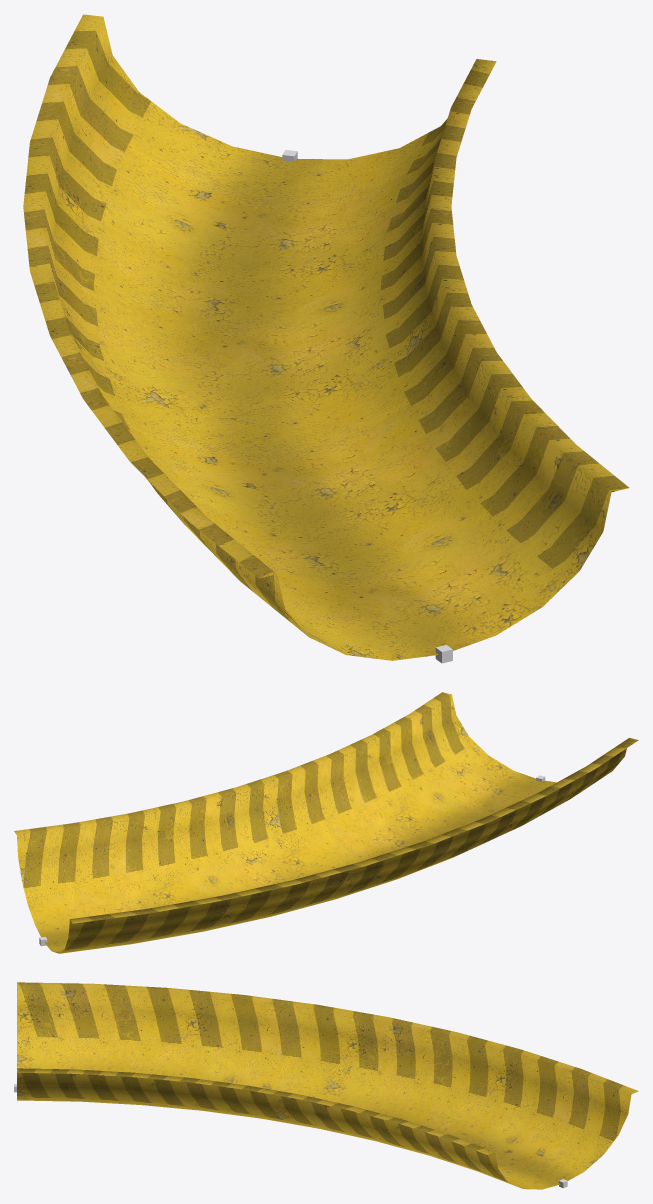
The model's file is roadBend45.R.fbx.
The picture shows the model from 3 angles, top to bottom: view 1: azimuth 30°, elevation 25°; view 2: azimuth 150°, elevation 25°; view 3: azimuth 270°, elevation 25°; orthographic projection. The views are drawn at different scales.
Parts seen in each view (by area): view 1: MESH roadBend45.R; view 2: MESH roadBend45.R; view 3: MESH roadBend45.R.
Part boxes in pixels (left/top/right/bottom): MESH roadBend45.R: left=23, top=14, right=629, bottom=660; MESH roadBend45.R: left=14, top=692, right=638, bottom=953; MESH roadBend45.R: left=17, top=982, right=638, bottom=1189.
Size of what is drawn, in the model's own units: 3236 by 553 by 4945.
